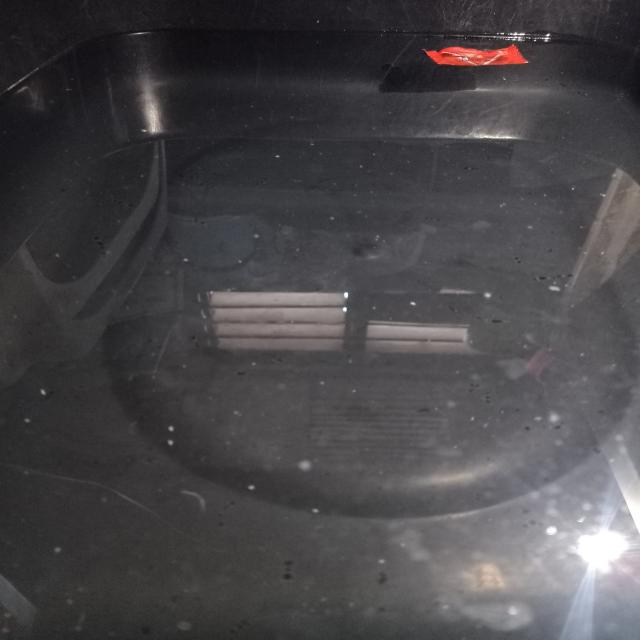Plastic Wrapper: (424, 44, 528, 66)
